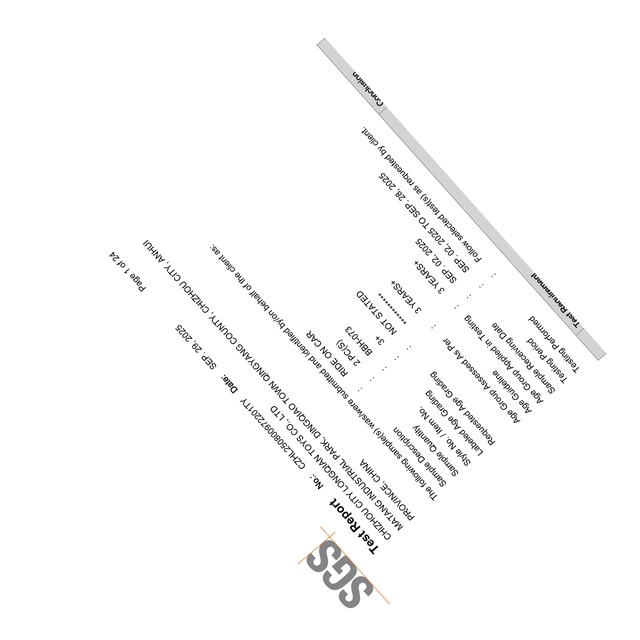sgs: (306, 539, 374, 608)
